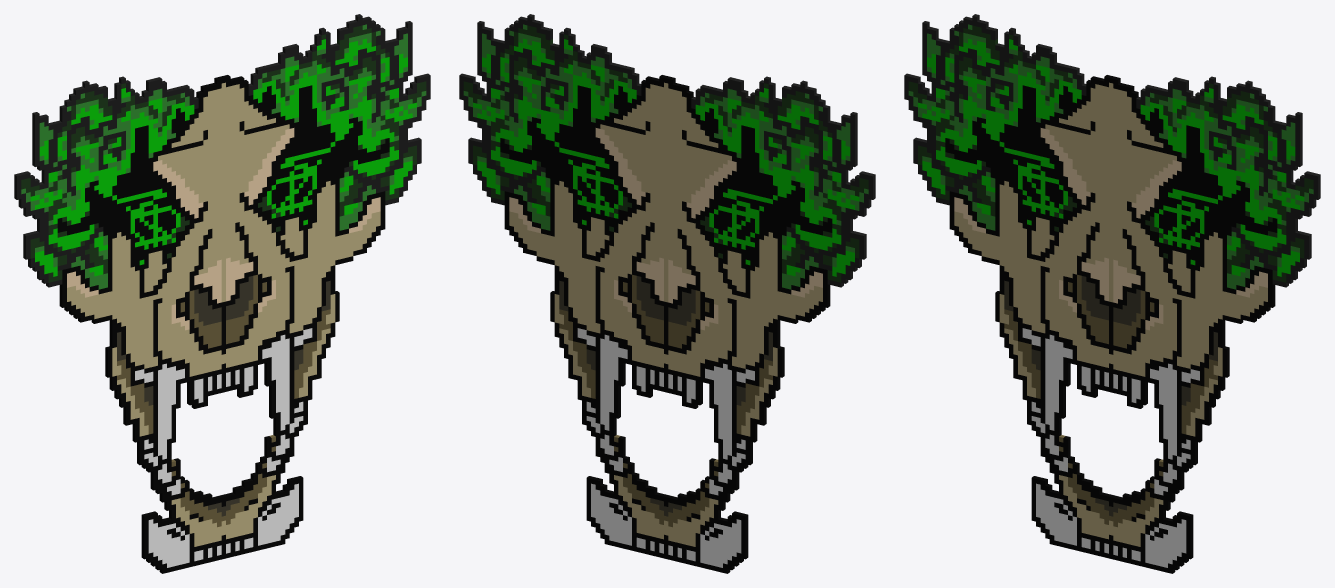
The model's file is Z0lFyre.obj.
The picture shows the model from 3 angles, left to right: view 1: azimuth 30°, elevation 25°; view 2: azimuth 150°, elevation 25°; view 3: azimuth 330°, elevation 25°; orthographic projection.
Size of the model in its own units: 91 by 107 by 1.
